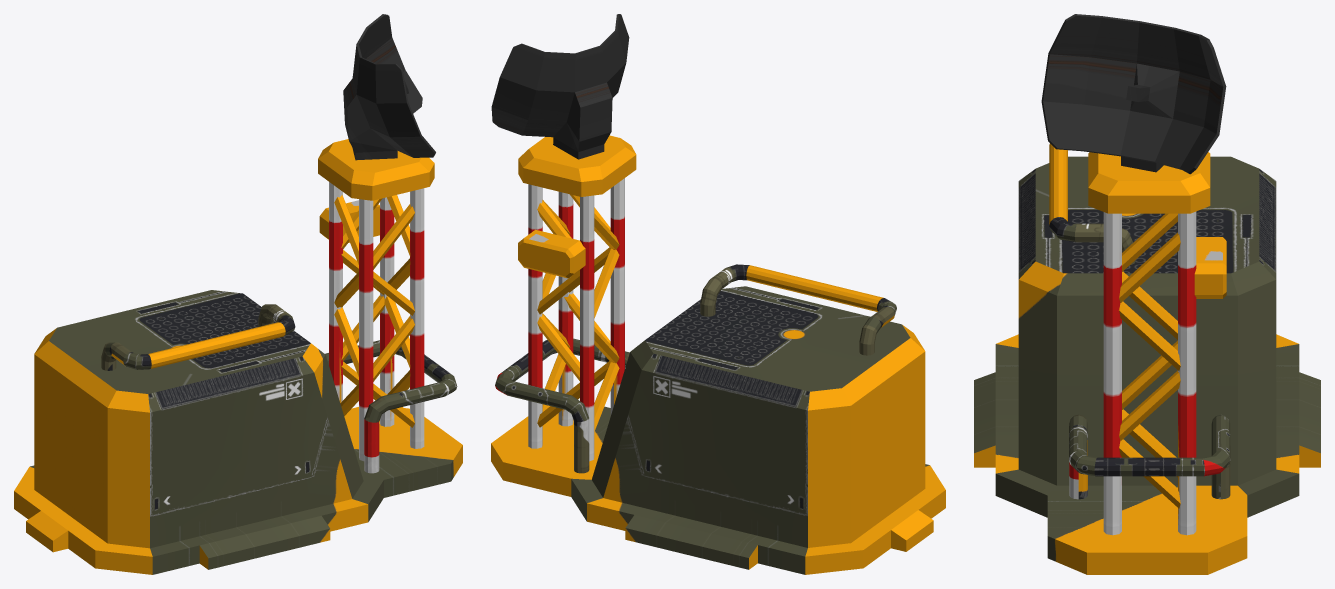
File: radar_jammer_tower_item.obj
3 views of the same model, side by side, from view 1: azimuth 30°, elevation 25°; view 2: azimuth 150°, elevation 25°; view 3: azimuth 270°, elevation 25° (orthographic). The views are drawn at different scales.
Visible parts, largest first — view 1: radar_jammer_tower_item; view 2: radar_jammer_tower_item; view 3: radar_jammer_tower_item.
Boxes of the visible parts, x1,y1,x2,y2 form: radar_jammer_tower_item: [14, 14, 462, 574]; radar_jammer_tower_item: [491, 14, 945, 574]; radar_jammer_tower_item: [974, 14, 1320, 574].
Bounding box in the file's own units: 3.26 × 3.25 × 1.97.
